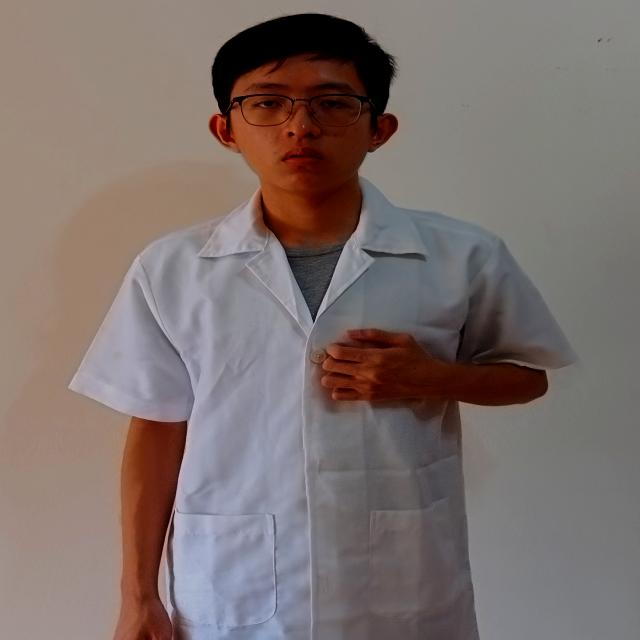person_with_labcoat: (70, 13, 575, 640)
